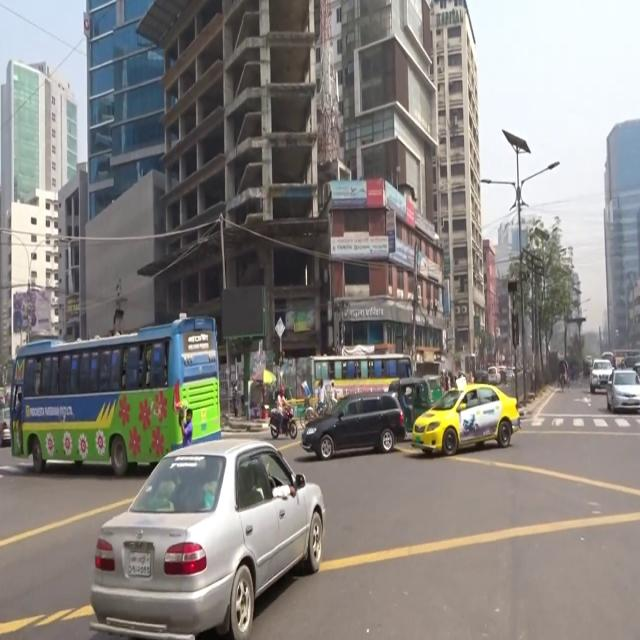black: (302, 392, 406, 453)
silver: (94, 438, 324, 630), (609, 369, 640, 410)
